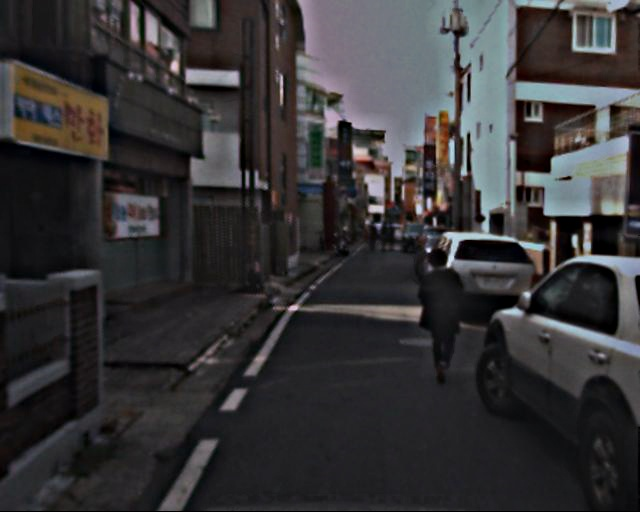person: (413, 247, 469, 383), (366, 222, 394, 253)
